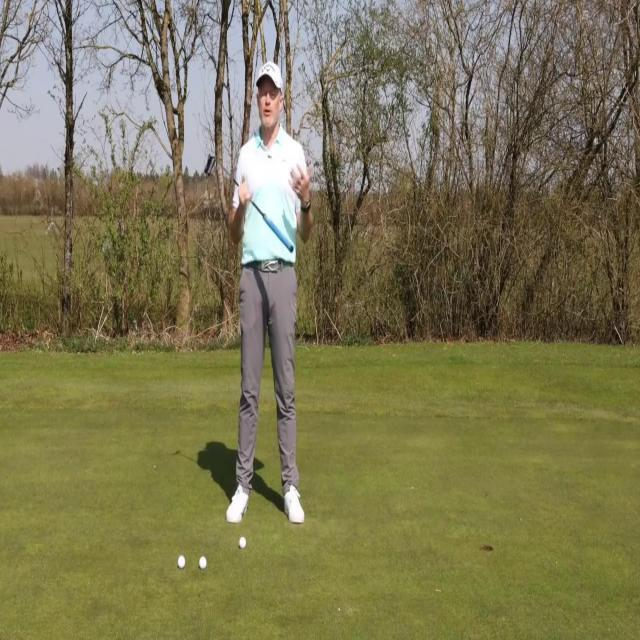GolfBall: (195, 551, 211, 571), (175, 550, 188, 572), (235, 533, 250, 552)
